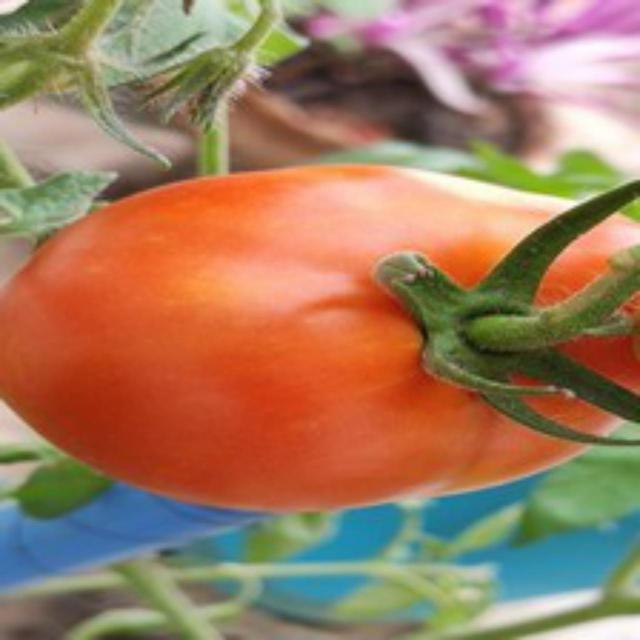tomato: (0, 145, 637, 526)
